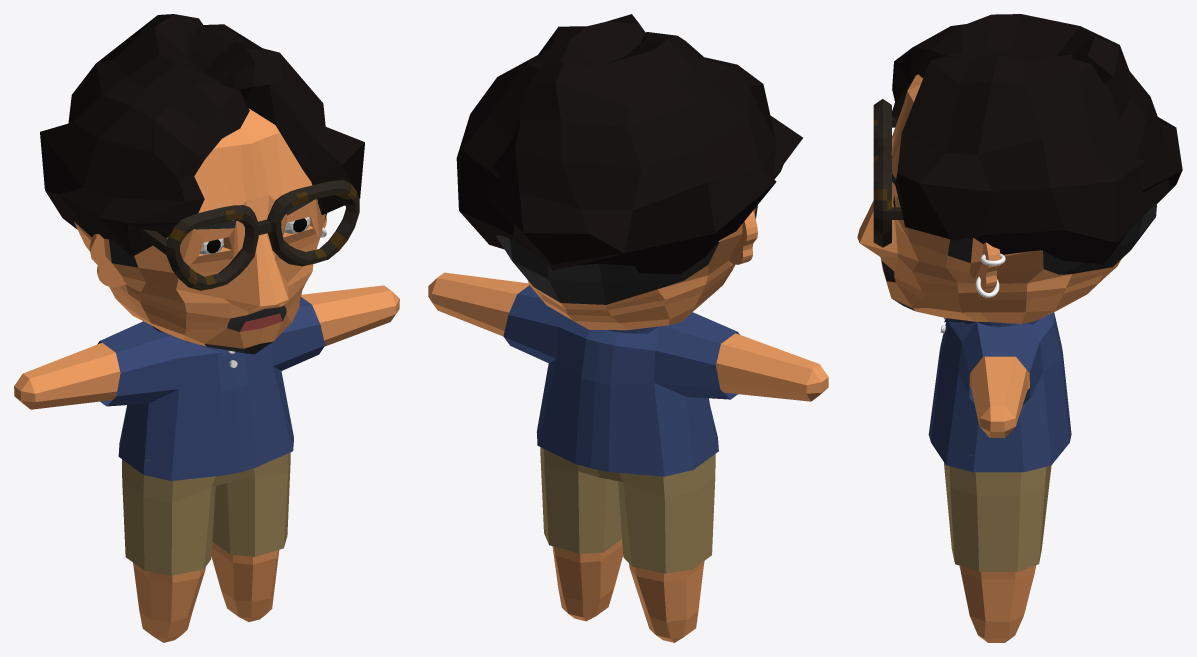
The model's file is asset.glb.
3 views of the same model, side by side, from view 1: azimuth 30°, elevation 25°; view 2: azimuth 150°, elevation 25°; view 3: azimuth 270°, elevation 25° (orthographic). The views are drawn at different scales.
Visible parts, largest first — view 1: hair_01, face, shirt, body, pants, hair_02, glass, ear, eye; view 2: hair_01, shirt, body, pants, face, hair_02, ear; view 3: hair_02, face, shirt, hair_01, pants, body, glass, ear.
Part boxes in pixels (bbox=[...]): hair_01: bbox=[40, 14, 249, 255]; face: bbox=[74, 108, 327, 354]; shirt: bbox=[97, 297, 325, 480]; body: bbox=[14, 285, 399, 642]; pants: bbox=[122, 452, 290, 575]; hair_02: bbox=[185, 24, 364, 214]; glass: bbox=[141, 180, 359, 290]; ear: bbox=[89, 216, 326, 287]; eye: bbox=[199, 217, 310, 254]; hair_01: bbox=[489, 32, 802, 273]; shirt: bbox=[503, 285, 739, 476]; body: bbox=[428, 272, 828, 642]; pants: bbox=[540, 447, 715, 573]; face: bbox=[496, 205, 757, 330]; hair_02: bbox=[456, 14, 645, 258]; ear: bbox=[729, 211, 757, 264]; hair_02: bbox=[895, 54, 1170, 264]; face: bbox=[857, 74, 1157, 323]; shirt: bbox=[928, 312, 1071, 472]; hair_01: bbox=[892, 14, 1182, 203]; pants: bbox=[944, 455, 1051, 571]; body: bbox=[959, 356, 1036, 642]; glass: bbox=[873, 99, 903, 247]; ear: bbox=[973, 242, 1000, 290].
Bounding box in the file's own units: 1.86 × 2.7 × 1.35.
